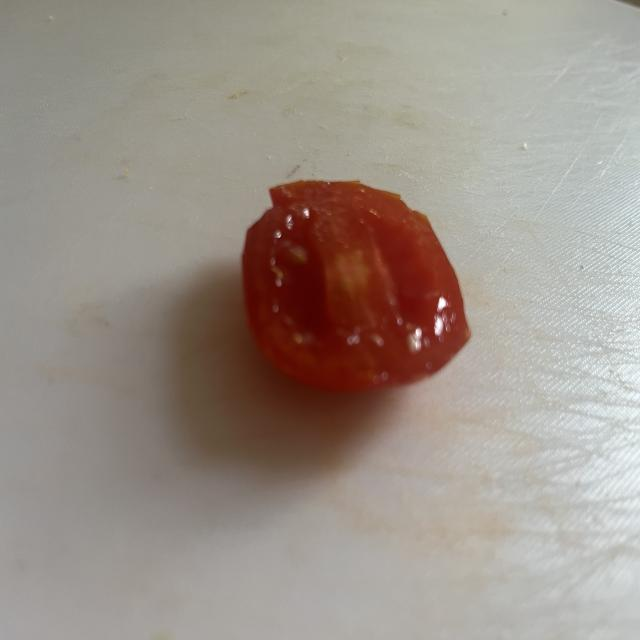sliced_tomato: (243, 181, 469, 390)
